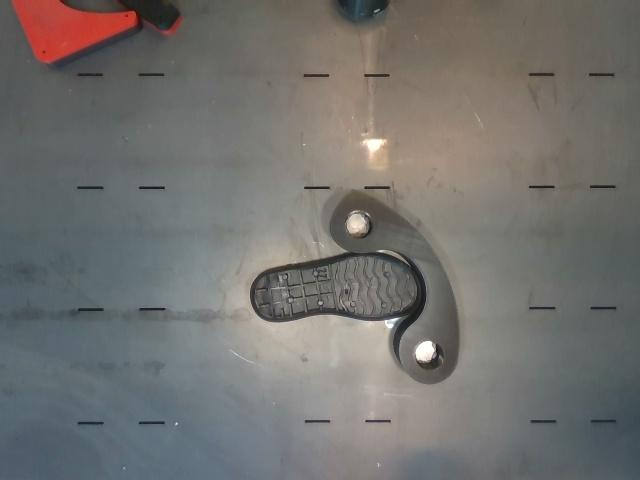shoes: (251, 255, 420, 322)
